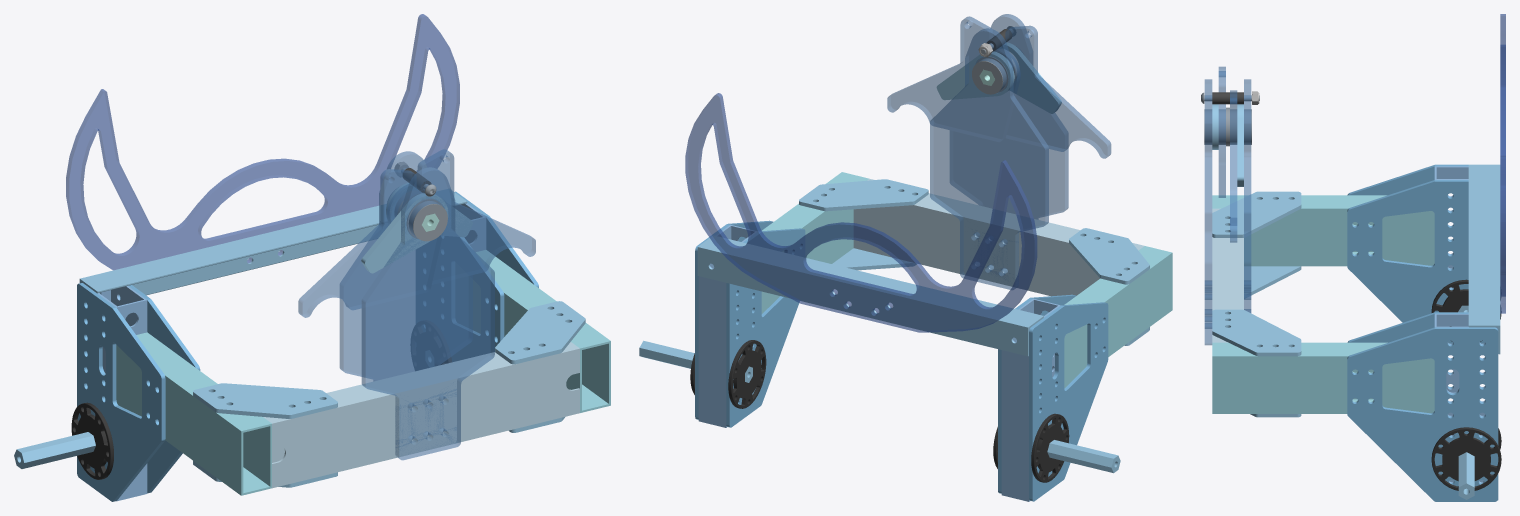
3 views of the same model, side by side, from view 1: azimuth 30°, elevation 25°; view 2: azimuth 150°, elevation 25°; view 3: azimuth 270°, elevation 25° (orthographic). The views are drawn at different scales.
Visible parts, largest first — view 1: 5401-25-500-000 Endgame Assembly <1>, 25W5000 - Climb <1>, 5401-25-500-004 (temp), 8982K394_Multipurpose 6061 Aluminum 90 Degree Angle, 5401-25-400-010 old (×2), 217-2592-001 Rev7 (×2), .5" Hex ID 1.125" OD Flanged Bearing (217-2734); view 2: 5401-25-500-000 Endgame Assembly <1>, 25W5000 - Climb <1>, 5401-25-500-004 (temp), 8982K394_Multipurpose 6061 Aluminum 90 Degree Angle, 5401-25-400-010 old (×2), 217-2592-001 Rev7 (×2), .5" Hex ID 1.125" OD Flanged Bearing (217-2734); view 3: 5401-25-500-000 Endgame Assembly <1>, 5401-25-400-010 old (×2), 25W5000 - Climb <1>, 8982K394_Multipurpose 6061 Aluminum 90 Degree Angle, 217-2592-001 Rev7 (×2), 5401-25-500-004 (temp), 1" LG .196" ID .375" OD Aluminum Spacer.
Boxes of the visible parts, bbox=[...] form: 5401-25-500-000 Endgame Assembly <1>: bbox=[14, 14, 610, 501]; 25W5000 - Climb <1>: bbox=[298, 149, 535, 460]; 5401-25-500-004 (temp): bbox=[263, 342, 579, 488]; 8982K394_Multipurpose 6061 Aluminum 90 Degree Angle: bbox=[79, 189, 467, 295]; 5401-25-400-010 old (×2): bbox=[119, 236, 504, 493]; 217-2592-001 Rev7 (×2): bbox=[71, 320, 451, 479]; .5" Hex ID 1.125" OD Flanged Bearing (217-2734): bbox=[407, 198, 447, 241]; 5401-25-500-000 Endgame Assembly <1>: bbox=[639, 42, 1172, 501]; 25W5000 - Climb <1>: bbox=[887, 14, 1111, 289]; 5401-25-500-004 (temp): bbox=[853, 178, 1144, 296]; 8982K394_Multipurpose 6061 Aluminum 90 Degree Angle: bbox=[697, 235, 1043, 356]; 5401-25-400-010 old (×2): bbox=[726, 228, 1076, 493]; 217-2592-001 Rev7 (×2): bbox=[728, 340, 1069, 482]; .5" Hex ID 1.125" OD Flanged Bearing (217-2734): bbox=[972, 56, 1008, 94]; 5401-25-500-000 Endgame Assembly <1>: bbox=[1212, 14, 1505, 501]; 5401-25-400-010 old (×2): bbox=[1347, 180, 1484, 388]; 25W5000 - Climb <1>: bbox=[1204, 66, 1251, 345]; 8982K394_Multipurpose 6061 Aluminum 90 Degree Angle: bbox=[1468, 164, 1500, 354]; 217-2592-001 Rev7 (×2): bbox=[1431, 279, 1501, 490]; 5401-25-500-004 (temp): bbox=[1212, 208, 1243, 342]; 1" LG .196" ID .375" OD Aluminum Spacer: bbox=[1212, 92, 1243, 104].
Size of the model in its own units: 0.435 by 0.2989 by 0.2436.
